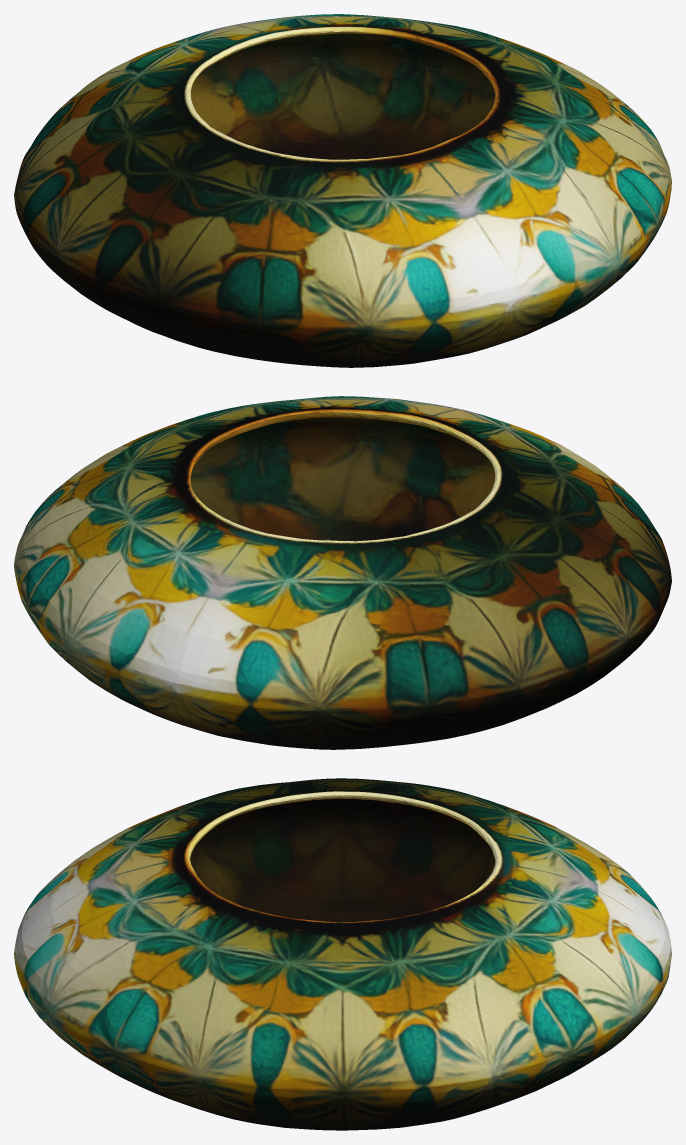
File: ceramic-handmade-pottery-art-deco.jpeg.glb
3 views of the same model, one above another, from view 1: azimuth 30°, elevation 25°; view 2: azimuth 150°, elevation 25°; view 3: azimuth 270°, elevation 25° (orthographic).
Parts seen in each view (by area): view 1: world; view 2: world; view 3: world.
Part boxes in pixels (x1=…): world: x1=14, y1=14, x2=671, y2=367; world: x1=14, y1=396, x2=671, y2=749; world: x1=14, y1=778, x2=671, y2=1130.
Size of the model in its own units: 0.9982 by 0.3233 by 0.9994.
Materials: 1 (1 with a texture image).
